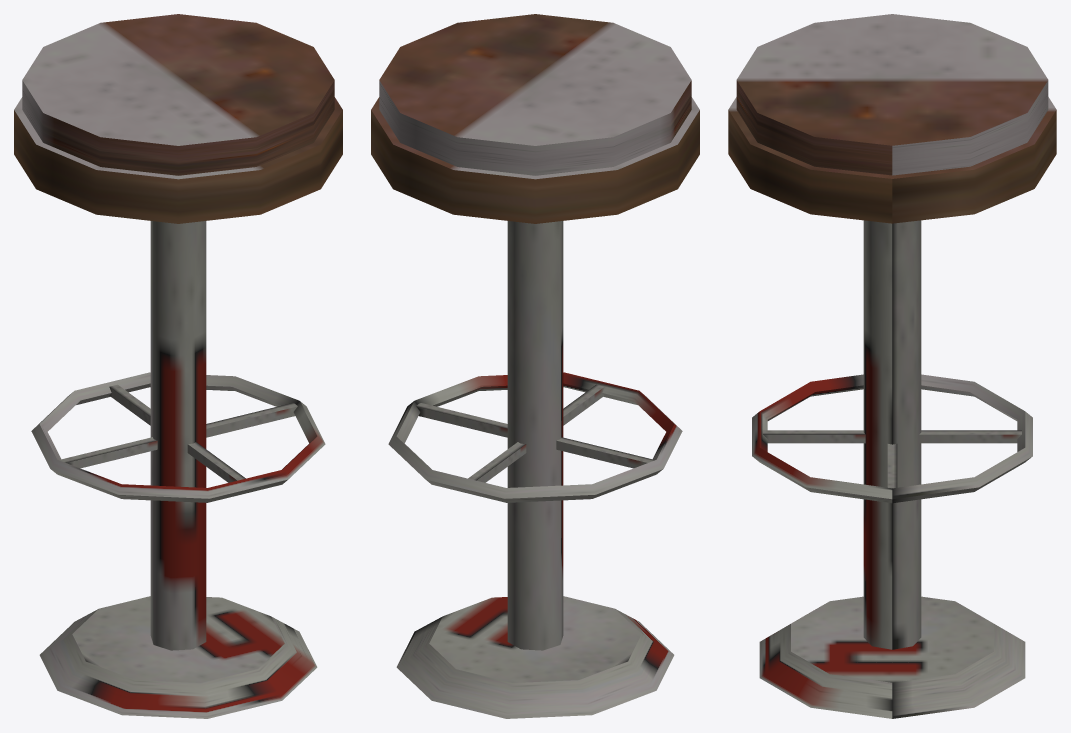
File: stool_red.fbx
3 views of the same model, side by side, from view 1: azimuth 30°, elevation 25°; view 2: azimuth 150°, elevation 25°; view 3: azimuth 270°, elevation 25° (orthographic).
Visible parts, largest first — view 1: stool_red, stool_red_seat; view 2: stool_red, stool_red_seat; view 3: stool_red, stool_red_seat.
Part boxes in pixels (<box>): stool_red: <box>31,221,325,718</box>; stool_red_seat: <box>14,14,342,223</box>; stool_red: <box>388,221,682,718</box>; stool_red_seat: <box>371,14,699,223</box>; stool_red: <box>752,220,1032,718</box>; stool_red_seat: <box>728,14,1056,223</box>.
Bounding box in the file's own units: 0.4 × 0.78 × 0.4.
